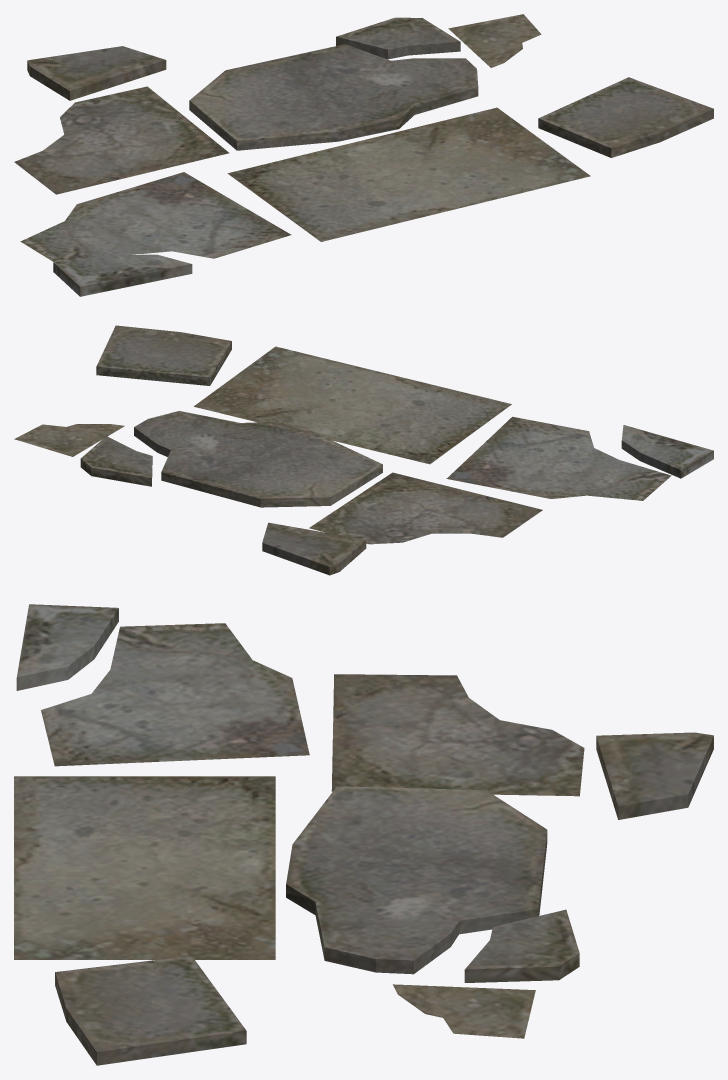
File: bg_lut_lutomb_brick04_sm_old.FBX
The picture shows the model from 3 angles, top to bottom: view 1: azimuth 30°, elevation 25°; view 2: azimuth 150°, elevation 25°; view 3: azimuth 270°, elevation 25°; orthographic projection. The views are drawn at different scales.
Visible parts, largest first — view 1: bg_lut_lutomb_brick04_sm_old; view 2: bg_lut_lutomb_brick04_sm_old; view 3: bg_lut_lutomb_brick04_sm_old.
Part boxes in pixels (x1,y1,x2,y2): bg_lut_lutomb_brick04_sm_old: (14, 14, 713, 296); bg_lut_lutomb_brick04_sm_old: (14, 325, 713, 575); bg_lut_lutomb_brick04_sm_old: (14, 604, 713, 1065).
Bounding box in the file's own units: 237 × 3.35 × 157.
